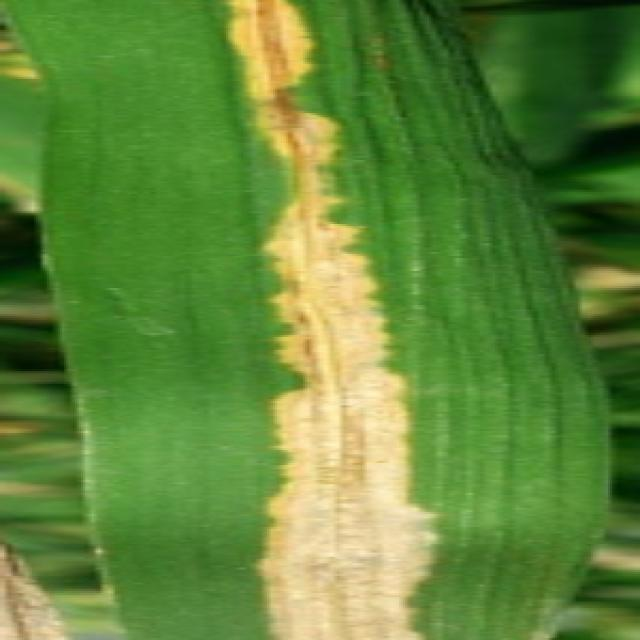Bacterial_Blight: (214, 0, 446, 640)
